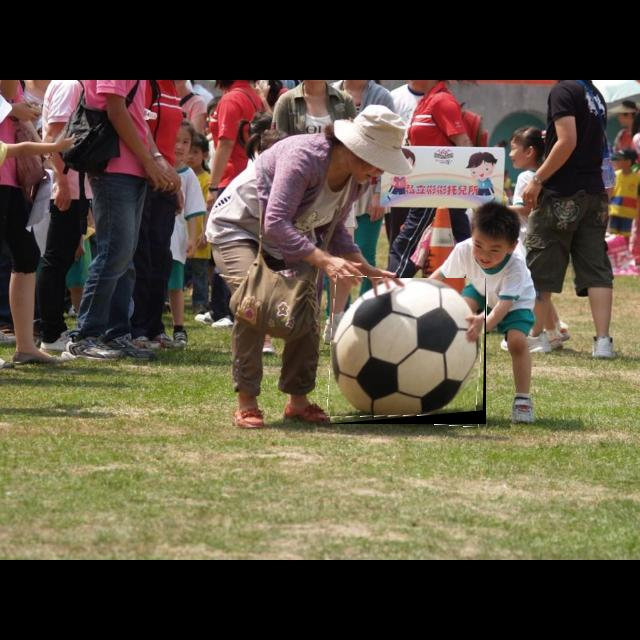Football: (330, 278, 486, 424)
